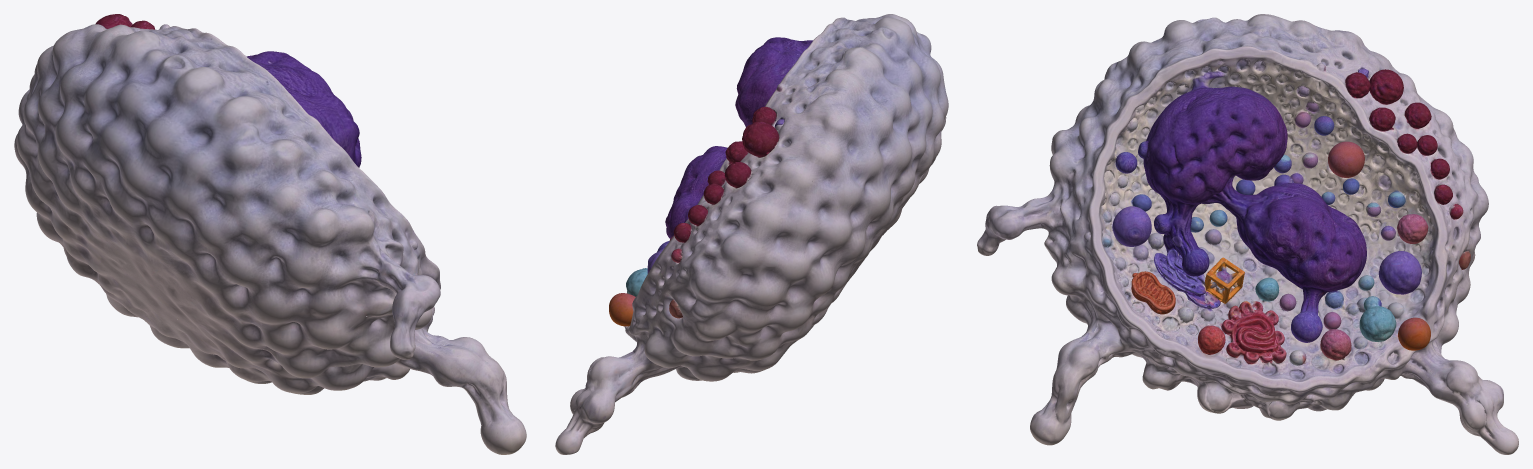
The model's file is white-tripo-web.glb.
3 views of the same model, side by side, from view 1: azimuth 30°, elevation 25°; view 2: azimuth 150°, elevation 25°; view 3: azimuth 270°, elevation 25° (orthographic). The views are drawn at different scales.
Visible parts, largest first — view 1: tripo_node_a033a675-0fa9-489f-93c1-051732aafde6; view 2: tripo_node_a033a675-0fa9-489f-93c1-051732aafde6; view 3: tripo_node_a033a675-0fa9-489f-93c1-051732aafde6.
Part boxes in pixels (x1,y1,x2,y2): tripo_node_a033a675-0fa9-489f-93c1-051732aafde6: (14, 14, 526, 454); tripo_node_a033a675-0fa9-489f-93c1-051732aafde6: (555, 14, 948, 454); tripo_node_a033a675-0fa9-489f-93c1-051732aafde6: (977, 14, 1518, 454).
Bounding box in the file's own units: 0.5807 × 0.708 × 0.9804.
1 material, 1 textured.
